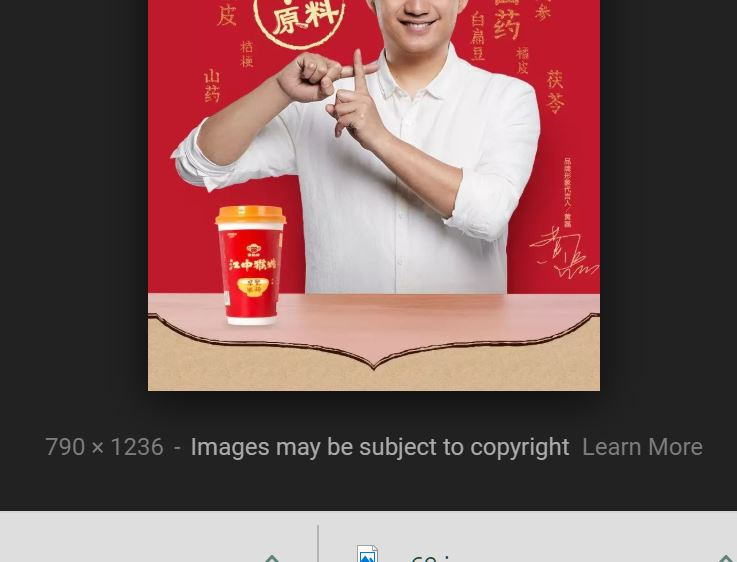cup: (216, 205, 287, 325)
